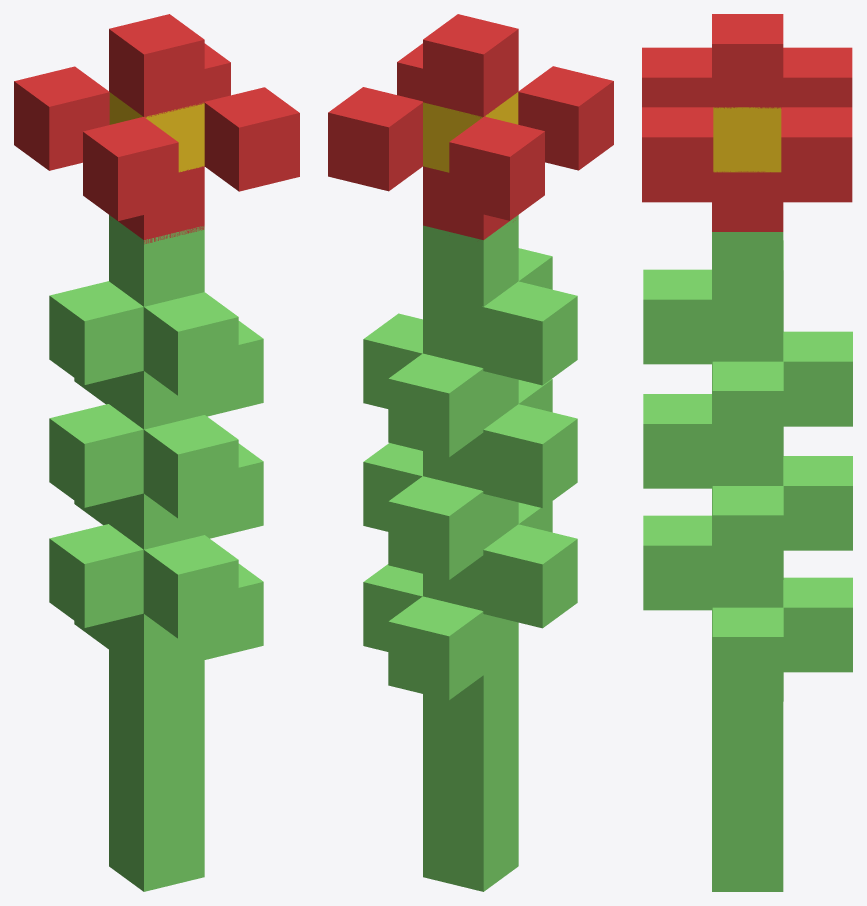
Rendered from Red Flower.glb.
3 renders of one model, left to right at view 1: azimuth 30°, elevation 25°; view 2: azimuth 150°, elevation 25°; view 3: azimuth 270°, elevation 25°, orthographic.
Parts seen in each view (by area): view 1: Cube, Cube.003, Cube.002, Cube.007, Cube.006, Cube.010, Cube.011, Cube.014, Cube.009, Cube.013, Cube.012, Cube.001; view 2: Cube, Cube.003, Cube.008, Cube.005, Cube.004, Cube.014, Cube.011, Cube.010, Cube.013, Cube.012, Cube.009, Cube.001 (+3 smaller); view 3: Cube.003, Cube, Cube.009, Cube.013, Cube.012, Cube.007, Cube.004, Cube.008, Cube.002, Cube.005, Cube.006, Cube.001.
Boxes of the visible parts, left/top/right/bottom form: Cube: left=109, top=215, right=204, bottom=891; Cube.003: left=14, top=14, right=299, bottom=244; Cube.002: left=143, top=292, right=238, bottom=395; Cube.007: left=143, top=535, right=238, bottom=638; Cube.006: left=143, top=415, right=238, bottom=518; Cube.010: left=49, top=524, right=143, bottom=627; Cube.011: left=49, top=404, right=143, bottom=507; Cube.014: left=49, top=281, right=143, bottom=384; Cube.009: left=204, top=564, right=263, bottom=659; Cube.013: left=204, top=321, right=263, bottom=416; Cube.012: left=204, top=443, right=263, bottom=538; Cube.001: left=109, top=92, right=204, bottom=172; Cube: left=423, top=215, right=518, bottom=891; Cube.003: left=328, top=14, right=613, bottom=240; Cube.008: left=388, top=596, right=483, bottom=700; Cube.005: left=388, top=476, right=483, bottom=579; Cube.004: left=388, top=353, right=483, bottom=457; Cube.014: left=482, top=281, right=577, bottom=385; Cube.011: left=482, top=404, right=577, bottom=507; Cube.010: left=482, top=524, right=577, bottom=628; Cube.013: left=363, top=313, right=422, bottom=408; Cube.012: left=363, top=443, right=423, bottom=531; Cube.009: left=363, top=564, right=422, bottom=651; Cube.001: left=423, top=92, right=518, bottom=172; Cube.003: left=642, top=14, right=852, bottom=231; Cube: left=712, top=232, right=783, bottom=891; Cube.009: left=712, top=607, right=783, bottom=701; Cube.013: left=712, top=361, right=783, bottom=455; Cube.012: left=712, top=485, right=783, bottom=579; Cube.007: left=643, top=515, right=714, bottom=610; Cube.004: left=783, top=331, right=852, bottom=426; Cube.008: left=783, top=577, right=852, bottom=672; Cube.002: left=643, top=269, right=714, bottom=364; Cube.005: left=783, top=456, right=852, bottom=550; Cube.006: left=643, top=394, right=714, bottom=488; Cube.001: left=713, top=107, right=781, bottom=172.
Size of the model in its own units: 0.1452 by 0.6388 by 0.1439.
